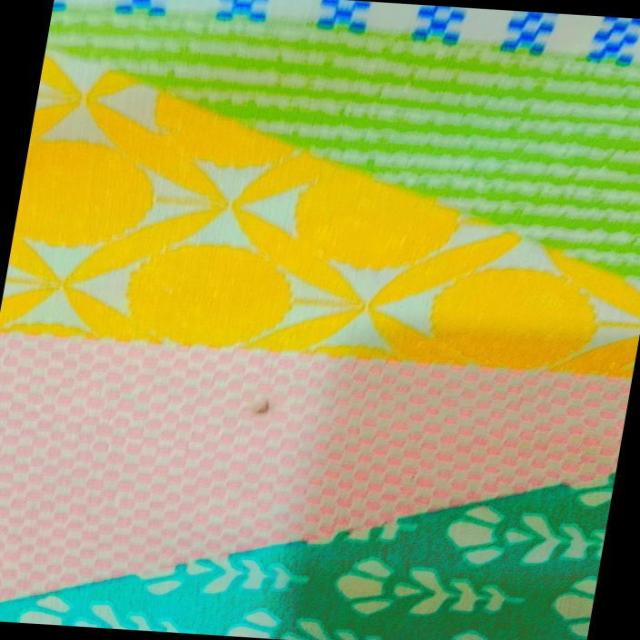stain: (237, 391, 293, 424)
